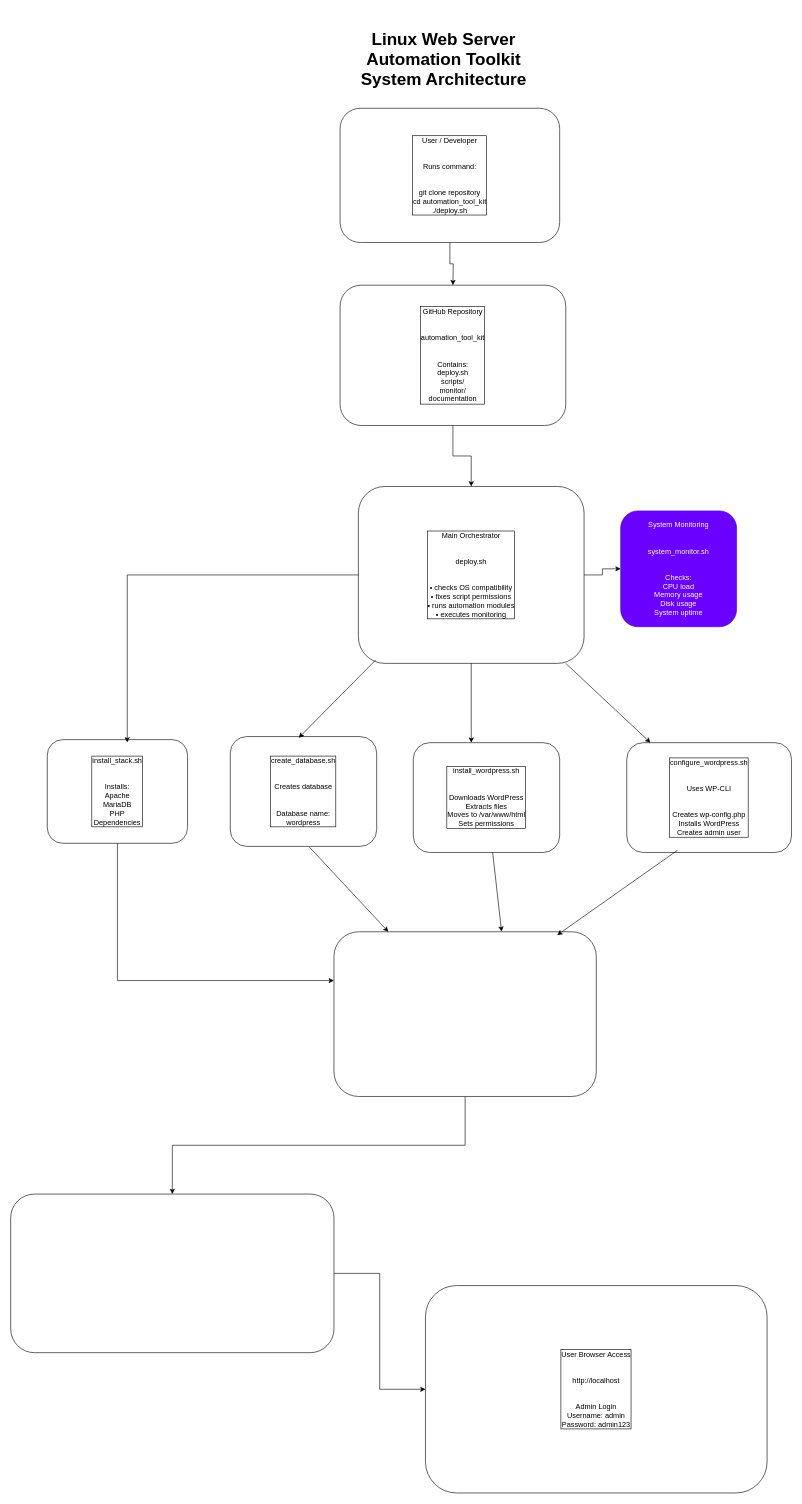
Some shapes in this 802 by 1504 pixel diagram are drawn without their labels. The shapes that lost their labels are listed below. From the top down, each one's centre as x and y in pixels, then its label:
At point 464,1013: "Web Server Environment Apache Web Server PHP Runtime MariaDB Database".
At point 172,1273: "WordPress CMS Website platform installed automatically by automation scripts".
